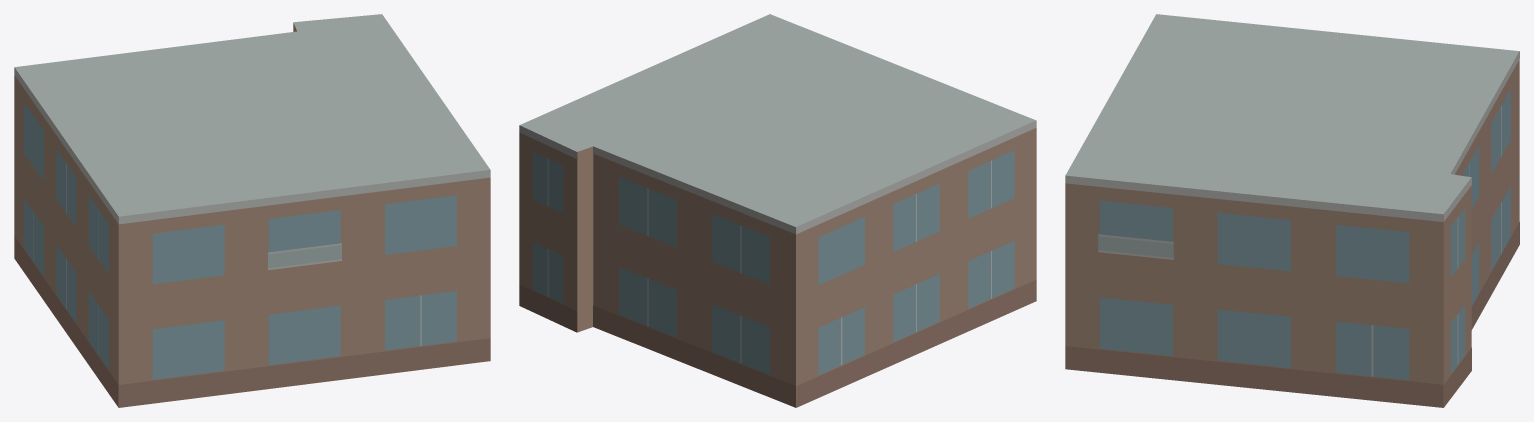
The model's file is survey-upis-32957438.glb.
The picture shows the model from 3 angles, left to right: view 1: azimuth 30°, elevation 25°; view 2: azimuth 150°, elevation 25°; view 3: azimuth 270°, elevation 25°; orthographic projection. The views are drawn at different scales.
Parts seen in each view (by area): view 1: survey-upis-32957438.tmp; view 2: survey-upis-32957438.tmp; view 3: survey-upis-32957438.tmp.
Part boxes in pixels (bbox=[...]): survey-upis-32957438.tmp: bbox=[14, 14, 490, 407]; survey-upis-32957438.tmp: bbox=[519, 14, 1036, 407]; survey-upis-32957438.tmp: bbox=[1065, 14, 1519, 407].
Size of the model in its own units: 13.55 by 6.1 by 12.99.
